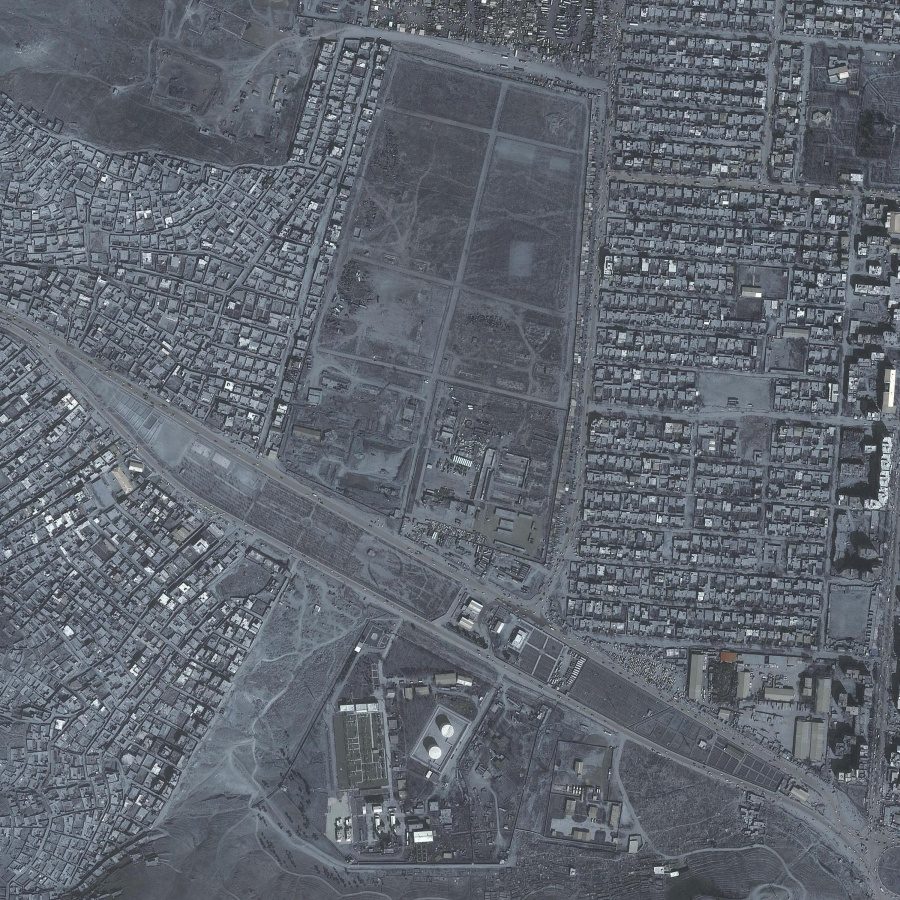PowerPlant: (335, 666, 478, 857)
